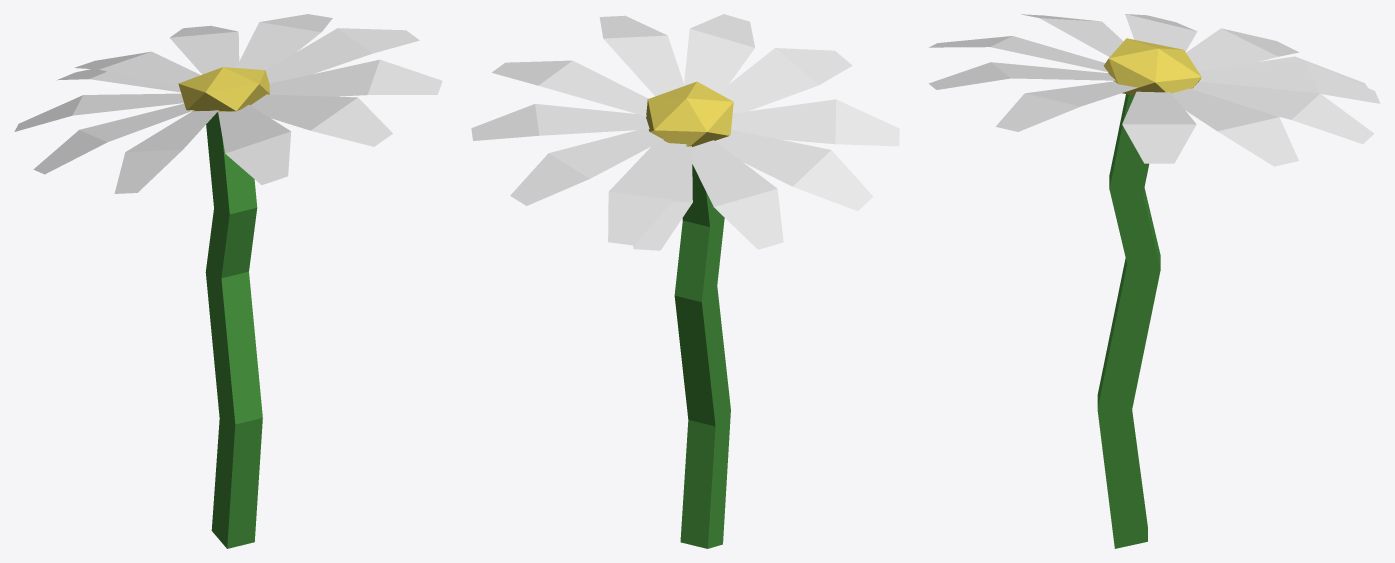
The model's file is daisy.fbx.
3 views of the same model, side by side, from view 1: azimuth 30°, elevation 25°; view 2: azimuth 150°, elevation 25°; view 3: azimuth 270°, elevation 25° (orthographic). The views are drawn at different scales.
Visible parts, largest first — view 1: Plane.001; view 2: Plane.001; view 3: Plane.001.
Part boxes in pixels (bbox=[...]): Plane.001: bbox=[14, 14, 442, 548]; Plane.001: bbox=[471, 14, 899, 548]; Plane.001: bbox=[928, 14, 1380, 548].
Size of the model in its own units: 294 by 351 by 288.
